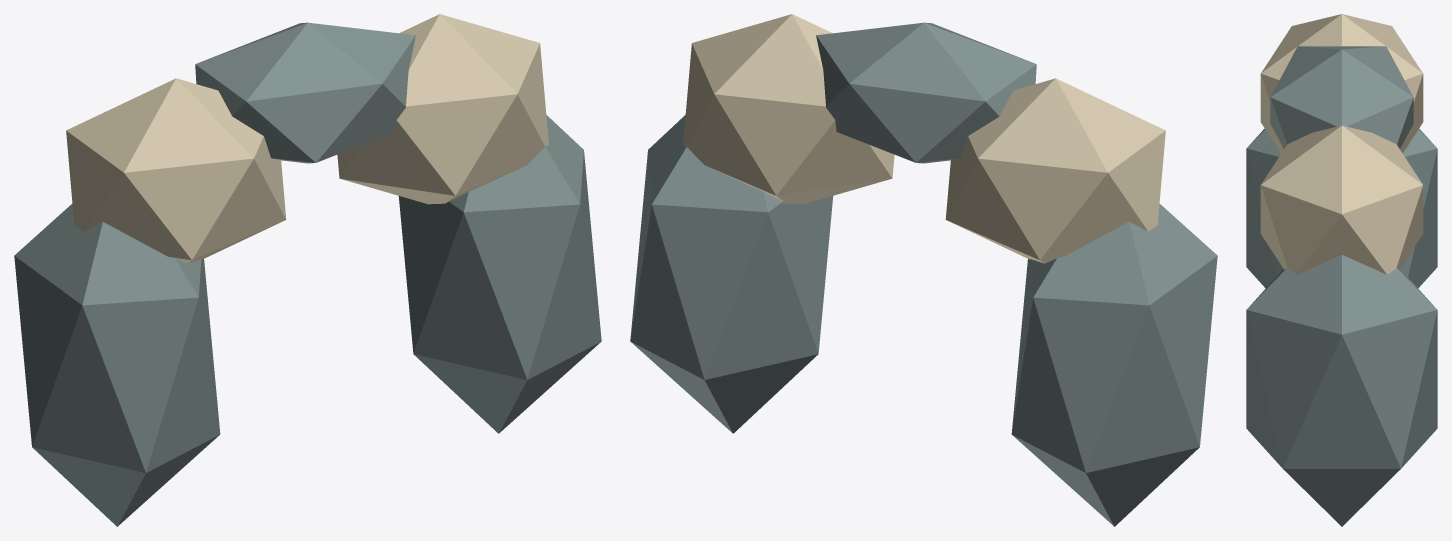
File: rock_arch.glb
3 renders of one model, left to right at view 1: azimuth 30°, elevation 25°; view 2: azimuth 150°, elevation 25°; view 3: azimuth 270°, elevation 25°, orthographic. The views are drawn at different scales.
Visible parts, largest first — view 1: pillar; view 2: pillar; view 3: pillar.
Boxes of the visible parts, x1,y1,x2,y2 form: pillar: (14, 14, 601, 526); pillar: (630, 14, 1217, 526); pillar: (1246, 14, 1437, 526).
Size of the model in its own units: 1.97 by 1.56 by 0.6805.
